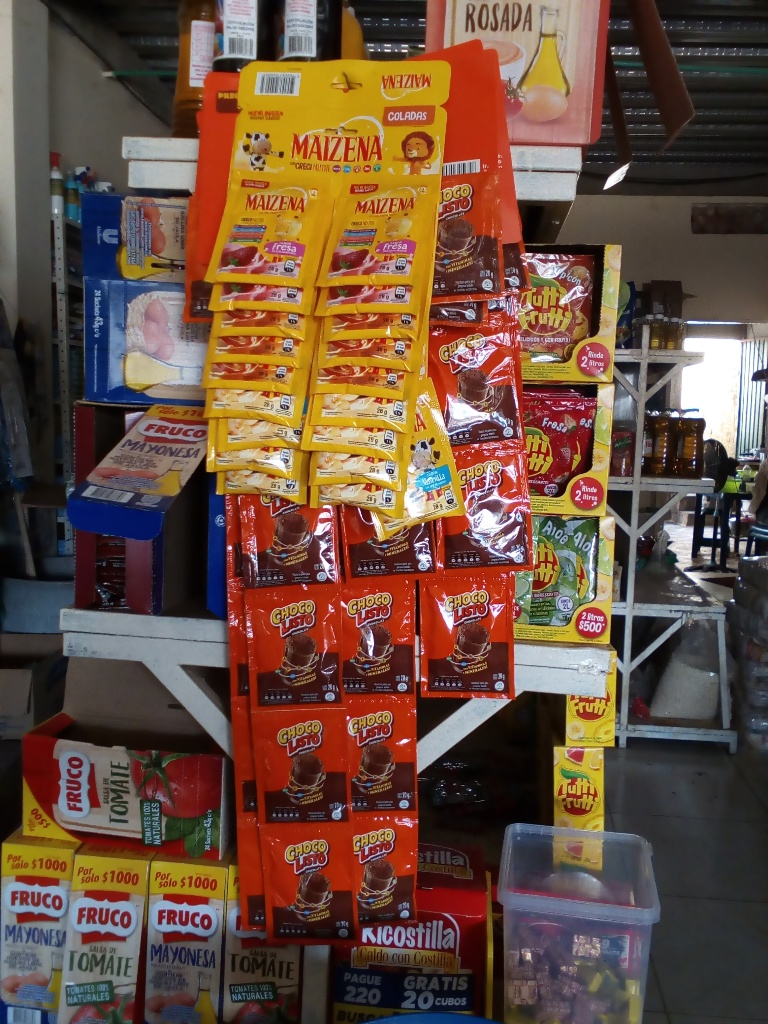COL0170103SOB02000: (257, 822, 359, 939)
